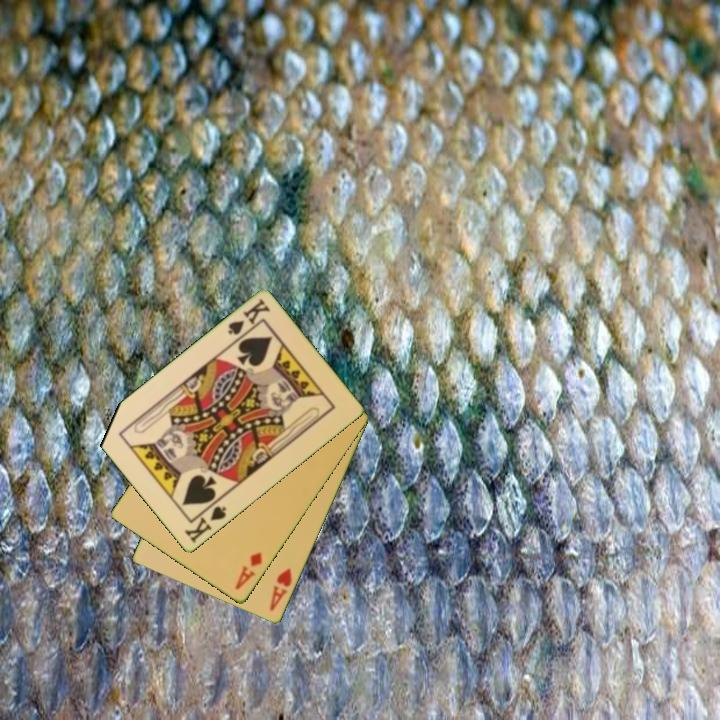Ad: (231, 549, 265, 593)
Ah: (266, 564, 295, 614)
Ks: (181, 497, 229, 546), (224, 295, 273, 338)
